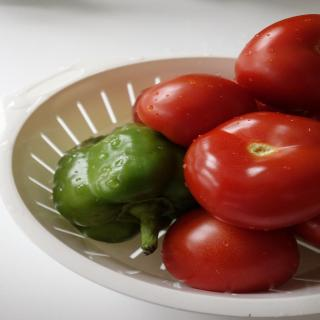tomato: (182, 109, 320, 237), (160, 209, 305, 293), (234, 14, 319, 125), (134, 70, 256, 142)
